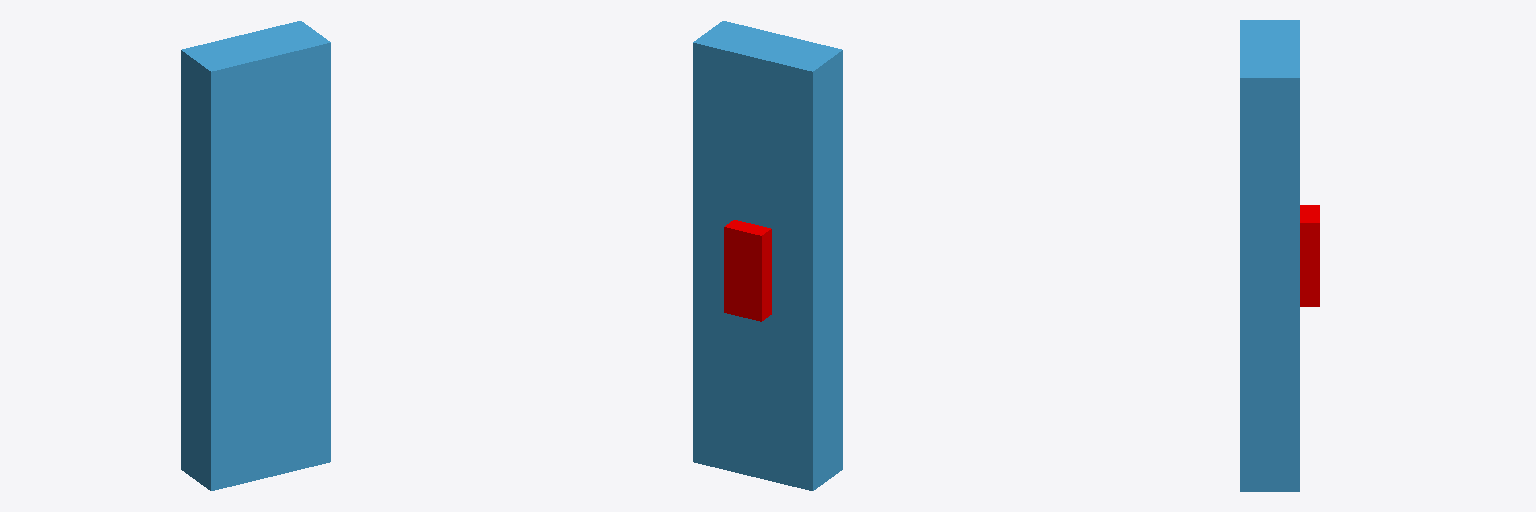
The robot description file, URDF, robot "knife":
<?xml version='1.0' encoding='utf-8'?>
<robot name="knife">
  <link name="link_1">
    <visual name="link_1">
      <origin xyz="0 0.011077 0" rpy="0 0 0" />
      <geometry>
        <box size="0.011922935521299844 0.005544781265683324 0.026117369220468964" /></geometry>
    <material name="red"><color rgba="1 0 0 1" /></material></visual>
    <collision>
      <origin xyz="0 0.011077 0" rpy="0 0 0" />
      <geometry>
        <box size="0.011922935521299844 0.005544781265683324 0.026117369220468964" /></geometry>
    </collision>
    </link>
  <joint name="joint_1" type="prismatic">
    <origin xyz="0 0 0" />
    <axis xyz="0 0 1" />
    <child link="link_1" />
    <parent link="link_0" />
    <limit lower="-0.034118" upper="0.015882" effort="100.0" velocity="1.0" />
  </joint>
  <link name="link_0">
    <visual name="link_0">
      <origin xyz="0 0 0" />
      <geometry>
        <box size="0.03820984396659897 0.016608744044252985 0.12757557516316206" /></geometry>
    </visual>
    <collision>
      <origin xyz="0 0 0" />
      <geometry>
        <box size="0.03820984396659897 0.016608744044252985 0.12757557516316206" /></geometry>
    </collision>
    </link>
</robot>

--- Facts derived from the render (not from the file) ---
The picture shows the robot from 3 angles, left to right: view 1: azimuth 30°, elevation 25°; view 2: azimuth 150°, elevation 25°; view 3: azimuth 270°, elevation 25°; orthographic projection.
Model knife with 2 links and 1 joints (1 prismatic), rooted at link_0, posed all joints at 0.
Visible links, largest first — view 1: link_0; view 2: link_0, link_1; view 3: link_0, link_1.
Boxes of the visible links, box(x1,y1,x2,y2) form: link_0: box(181, 21, 330, 490); link_0: box(693, 21, 842, 490); link_1: box(724, 220, 771, 321); link_0: box(1240, 20, 1299, 491); link_1: box(1300, 205, 1319, 306).
Bounding box of the posed robot: 0.0382 × 0.0222 × 0.1276 m (x, y, z).
Geometry: primitives only (box / cylinder / sphere), no mesh files.
